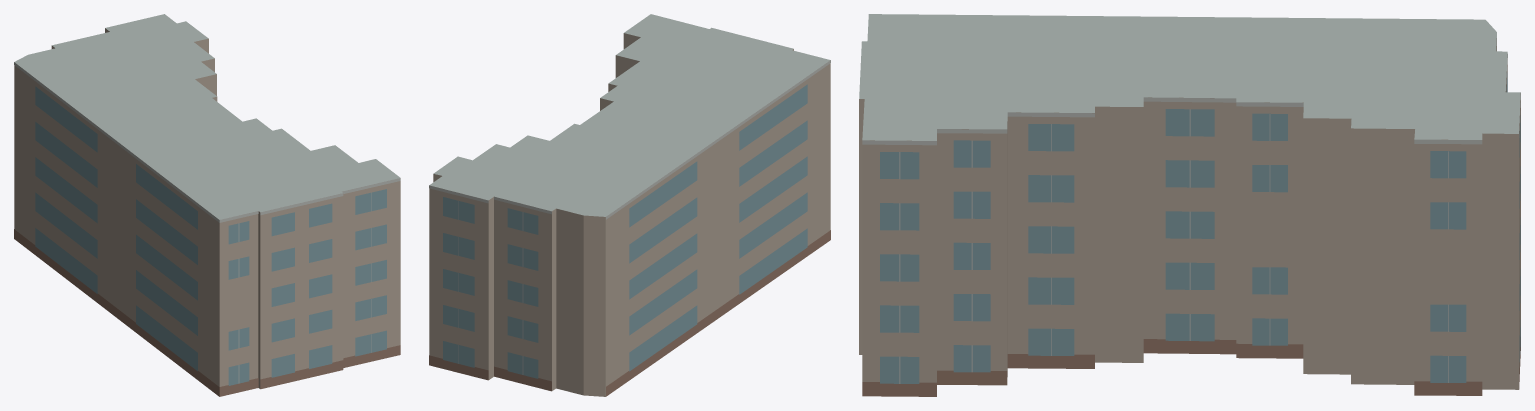
Rendered from survey-upis-32576298.glb.
3 renders of one model, left to right at view 1: azimuth 30°, elevation 25°; view 2: azimuth 150°, elevation 25°; view 3: azimuth 270°, elevation 25°, orthographic. The views are drawn at different scales.
Parts seen in each view (by area): view 1: survey-upis-32576298.tmp; view 2: survey-upis-32576298.tmp; view 3: survey-upis-32576298.tmp.
Part boxes in pixels (x1,y1,x2,y2): survey-upis-32576298.tmp: (14,14,400,396); survey-upis-32576298.tmp: (429,14,830,396); survey-upis-32576298.tmp: (859,14,1520,396).
Size of the model in its own units: 15.61 by 14.65 by 34.34.
